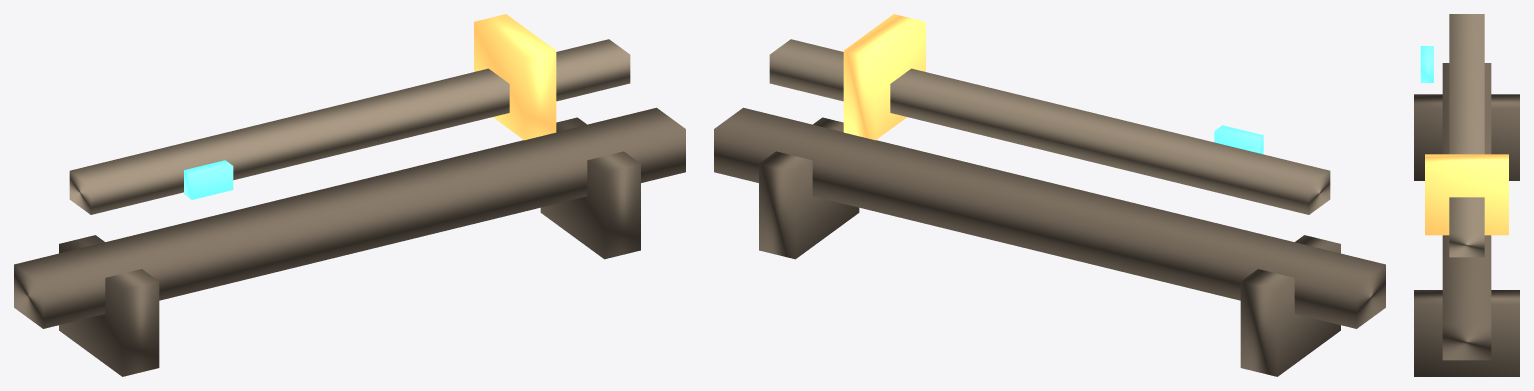
File: refinery-service-conduit-lod1.glb
3 renders of one model, left to right at view 1: azimuth 30°, elevation 25°; view 2: azimuth 150°, elevation 25°; view 3: azimuth 270°, elevation 25°, orthographic. The views are drawn at different scales.
Visible parts, largest first — view 1: refinery-service-conduit-trunk, refinery-service-conduit-upper, refinery-service-conduit-support-left, refinery-service-conduit-valve, refinery-service-conduit-support-right, refinery-service-conduit-status; view 2: refinery-service-conduit-trunk, refinery-service-conduit-upper, refinery-service-conduit-support-left, refinery-service-conduit-valve, refinery-service-conduit-support-right, refinery-service-conduit-status; view 3: refinery-service-conduit-upper, refinery-service-conduit-trunk, refinery-service-conduit-support-right, refinery-service-conduit-valve, refinery-service-conduit-support-left, refinery-service-conduit-status.
Boxes of the visible parts, bbox=[...] form: refinery-service-conduit-trunk: bbox=[14, 107, 685, 328]; refinery-service-conduit-upper: bbox=[69, 39, 630, 214]; refinery-service-conduit-support-left: bbox=[59, 235, 159, 376]; refinery-service-conduit-valve: bbox=[474, 14, 556, 140]; refinery-service-conduit-support-right: bbox=[540, 117, 640, 259]; refinery-service-conduit-status: bbox=[184, 160, 233, 199]; refinery-service-conduit-trunk: bbox=[714, 107, 1385, 328]; refinery-service-conduit-upper: bbox=[769, 39, 1330, 214]; refinery-service-conduit-support-left: bbox=[1240, 235, 1340, 376]; refinery-service-conduit-valve: bbox=[843, 14, 925, 140]; refinery-service-conduit-support-right: bbox=[759, 117, 859, 259]; refinery-service-conduit-status: bbox=[1214, 125, 1263, 154]; refinery-service-conduit-upper: bbox=[1449, 14, 1484, 257]; refinery-service-conduit-trunk: bbox=[1442, 63, 1491, 360]; refinery-service-conduit-support-right: bbox=[1414, 290, 1519, 376]; refinery-service-conduit-valve: bbox=[1425, 154, 1508, 235]; refinery-service-conduit-support-left: bbox=[1414, 94, 1519, 180]; refinery-service-conduit-status: bbox=[1420, 46, 1433, 82].
Size of the model in its own units: 2.8 by 0.89 by 0.48.
